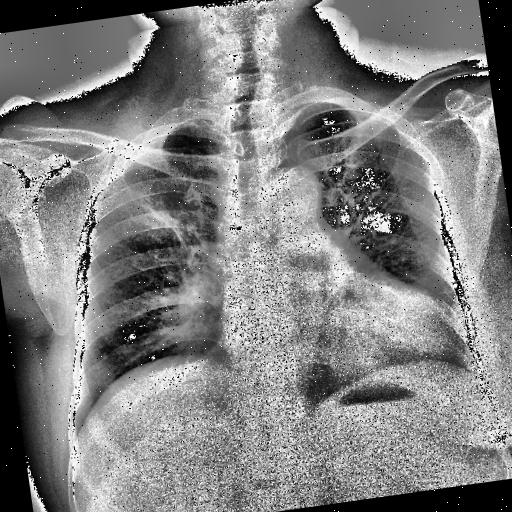0- Aortic enlargement: (254, 165, 330, 234), (258, 158, 324, 234), (256, 161, 320, 228)
13- Pulmonary fibrosis: (136, 177, 212, 258), (144, 197, 192, 252), (142, 198, 187, 254)
3- Cardiomegaly: (217, 281, 469, 406), (210, 264, 459, 388), (200, 290, 448, 401)
